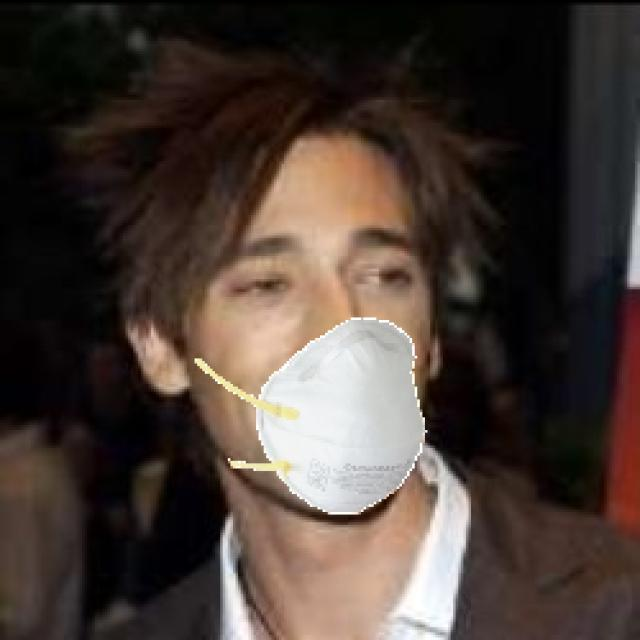mask: (169, 329, 491, 543)
